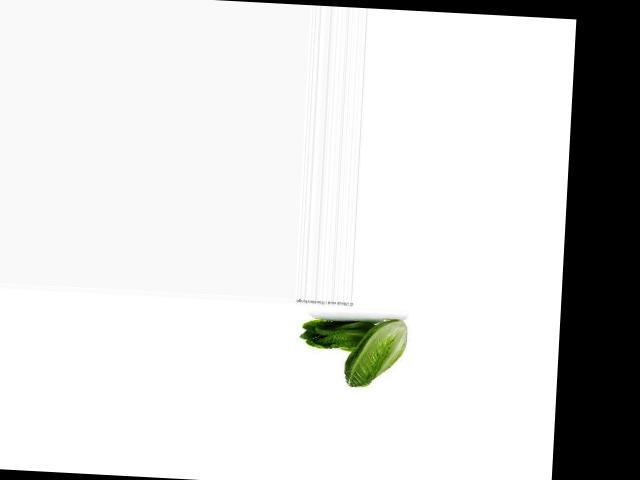lettuce: (300, 308, 375, 359)
